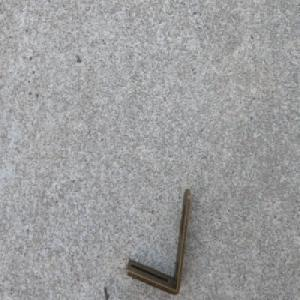MetalPart: (125, 187, 192, 296)
